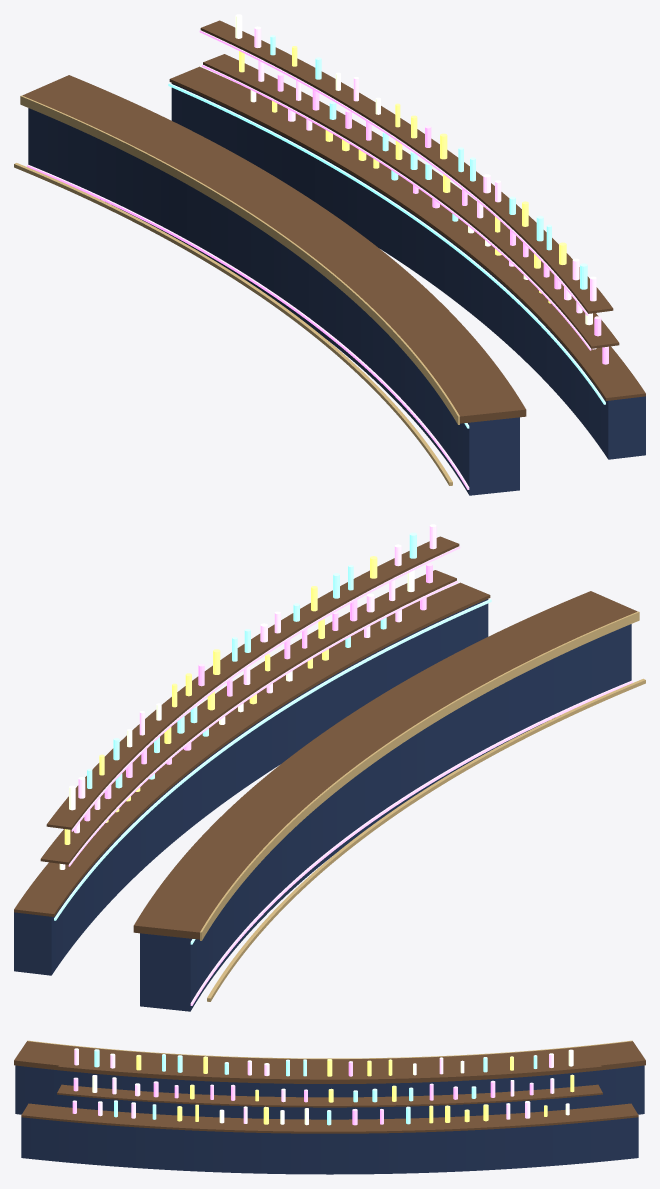
Rendered from space_bar.glb.
3 views of the same model, one above another, from view 1: azimuth 30°, elevation 25°; view 2: azimuth 150°, elevation 25°; view 3: azimuth 270°, elevation 25° (orthographic). The views are drawn at different scales.
Visible parts, largest first — view 1: Body, Top, Cabinet, CabinetTop, Shelf0, Shelf1, TopEdge, FootRail, NeonKick, CabinetNeon, ShelfGlow0, ShelfGlow1; view 2: Body, Top, Cabinet, CabinetTop, Shelf0, Shelf1, TopEdge, FootRail, NeonKick, CabinetNeon, ShelfGlow0, ShelfGlow1; view 3: Cabinet, Body, Top, CabinetTop, Shelf0, Shelf1, TopEdge.
Boxes of the visible parts, x1,y1,x2,y2 form: Body: (28, 108, 519, 495); Top: (22, 75, 526, 423); Cabinet: (171, 83, 645, 459); CabinetTop: (169, 66, 645, 400); Shelf0: (203, 54, 619, 348); Shelf1: (200, 20, 613, 313); TopEdge: (20, 95, 459, 424); FootRail: (14, 163, 452, 485); NeonKick: (27, 164, 469, 489); CabinetNeon: (168, 83, 605, 404); ShelfGlow0: (202, 65, 591, 350); ShelfGlow1: (199, 30, 588, 315); Body: (140, 624, 631, 1011); Top: (133, 591, 637, 939); Cabinet: (14, 599, 488, 975); CabinetTop: (14, 582, 490, 916); Shelf0: (40, 570, 456, 864); Shelf1: (46, 536, 459, 829); TopEdge: (200, 611, 639, 940); FootRail: (207, 678, 645, 1001); NeonKick: (190, 680, 632, 1005); CabinetNeon: (54, 599, 491, 920); ShelfGlow0: (68, 580, 457, 866); ShelfGlow1: (71, 546, 460, 831); Cabinet: (21, 1117, 638, 1174); Body: (15, 1065, 644, 1119); Top: (14, 1041, 645, 1083); CabinetTop: (21, 1103, 638, 1133); Shelf0: (57, 1084, 602, 1107); Shelf1: (58, 1059, 601, 1081); TopEdge: (27, 1040, 632, 1059).
Size of the model in its own units: 4.26 by 2.59 by 14.06.
